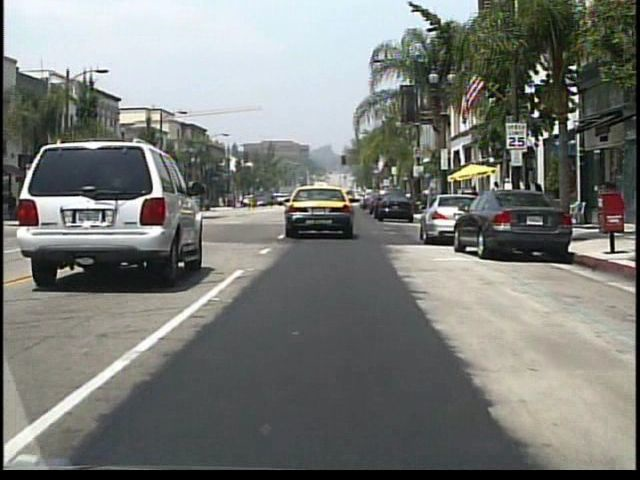person: (521, 171, 544, 229), (526, 177, 541, 218), (502, 177, 518, 215), (514, 181, 528, 218), (489, 179, 503, 214), (267, 191, 275, 207)
